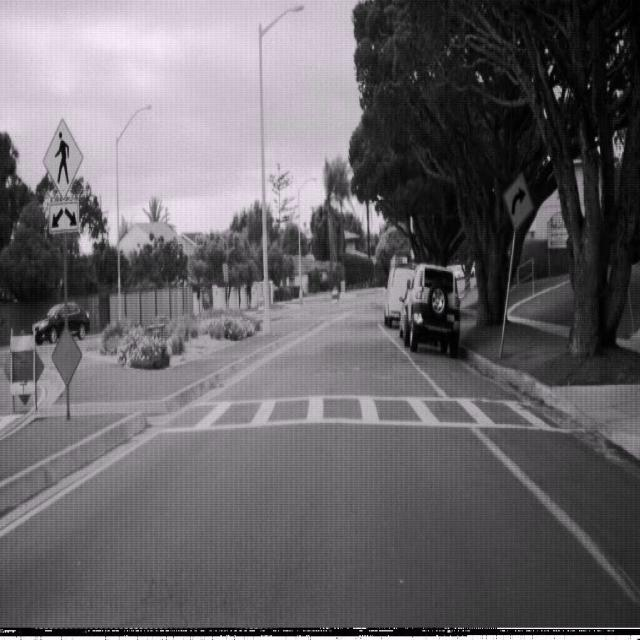pedestrianCrossing: (42, 115, 83, 201)
